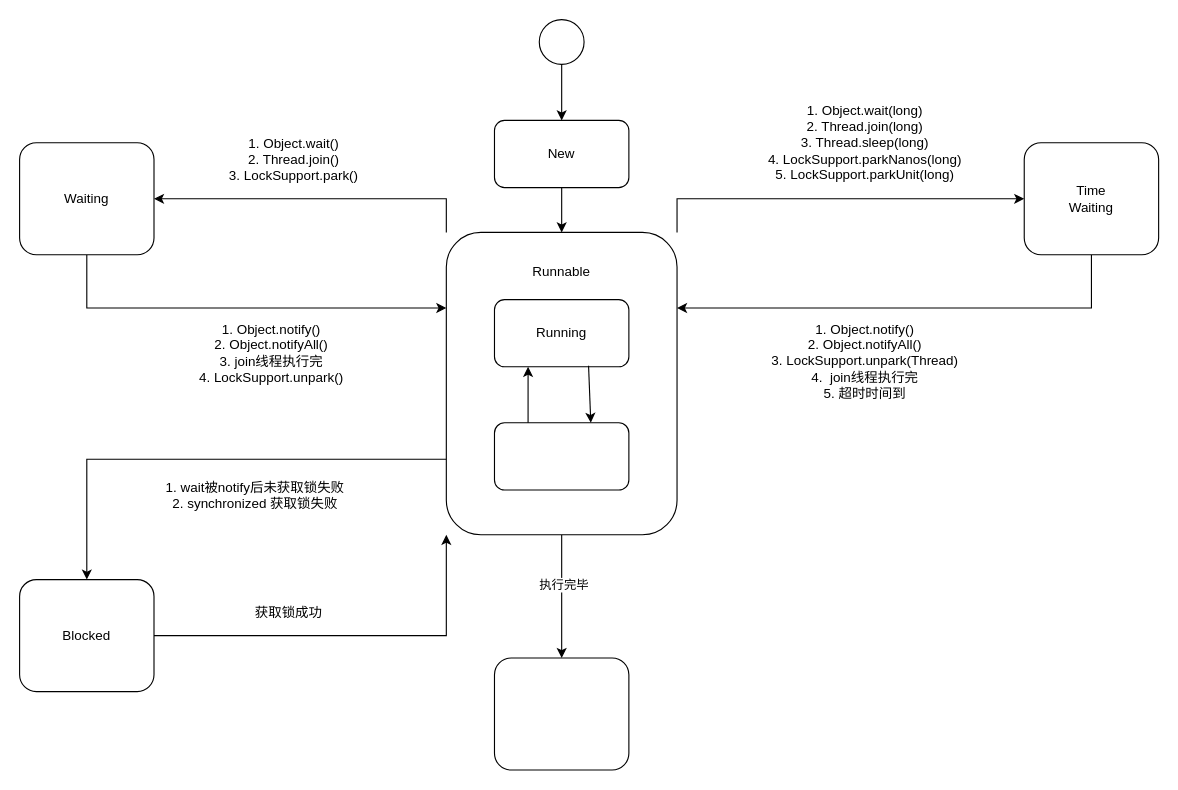
Image size: 1178x790. Some labels were removed from this diagram. Here are the shapes that lost their labels. From the top down, the centre of each, then its label:
At [561,456]: "Ready".
At [561,713]: "Terminiated".
